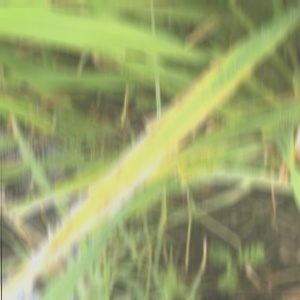Leaf_Blast: (90, 107, 180, 220)
